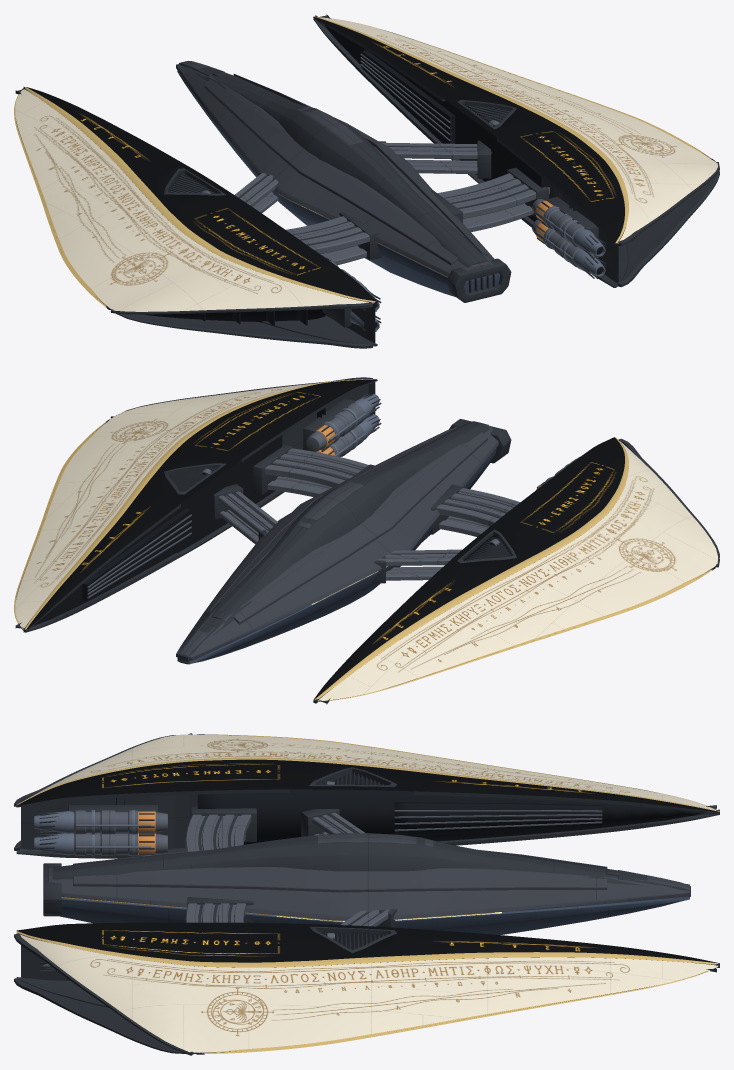
File: hermes_swept_wing.glb
3 renders of one model, top to bottom at view 1: azimuth 30°, elevation 25°; view 2: azimuth 150°, elevation 25°; view 3: azimuth 270°, elevation 25°, orthographic. The views are drawn at different scales.
Visible parts, largest first — view 1: Wing_IvoryArmor_Port_Top, Wing_IvoryArmor_Stbd_Top, Fuselage_UpperStealthCarapace, Fuselage_DorsalCanopySpine, Wing_ObsidianAft_Port_Top, Wing_ObsidianAft_Stbd_Top, Fuselage_DorsalShoulderPlate_Port, Wing_InternalStructuralCore_Stbd, Fuselage_LowerVentralHull, Wing_ObsidianFwd_Stbd_Top, Wing_ObsidianFwd_Port_Top, Wing_GoldDividerRibbon_Port_Top (+32 smaller); view 2: Wing_IvoryArmor_Port_Top, Wing_IvoryArmor_Stbd_Top, Fuselage_UpperStealthCarapace, Fuselage_DorsalCanopySpine, Wing_ObsidianAft_Port_Top, Wing_ObsidianAft_Stbd_Top, Fuselage_DorsalShoulderPlate_Port, Wing_InternalStructuralCore_Stbd, Wing_ObsidianFwd_Stbd_Top, Wing_ObsidianFwd_Port_Top, Fuselage_LowerVentralHull, Wing_GoldDividerRibbon_Port_Top (+23 smaller); view 3: Wing_IvoryArmor_Stbd_Top, Fuselage_UpperStealthCarapace, Fuselage_DorsalCanopySpine, Wing_InternalStructuralCore_Port, Wing_IvoryArmor_Port_Top, Fuselage_DorsalShoulderPlate_Stbd, Wing_ObsidianAft_Stbd_Top, Fuselage_LowerVentralHull, Wing_ObsidianAft_Port_Top, Wing_InnerWallIntakeThroat_Port, Wing_ObsidianFwd_Port_Top, Wing_ObsidianFwd_Stbd_Top (+29 smaller).
Part boxes in pixels (bbox=[...]): Wing_IvoryArmor_Port_Top: bbox=[15, 89, 373, 312]; Wing_IvoryArmor_Stbd_Top: bbox=[319, 17, 717, 243]; Fuselage_UpperStealthCarapace: bbox=[176, 61, 494, 276]; Fuselage_DorsalCanopySpine: bbox=[196, 66, 489, 267]; Wing_ObsidianAft_Port_Top: bbox=[179, 200, 377, 302]; Wing_ObsidianAft_Stbd_Top: bbox=[497, 127, 624, 244]; Fuselage_DorsalShoulderPlate_Port: bbox=[204, 79, 457, 265]; Wing_InternalStructuralCore_Stbd: bbox=[324, 24, 549, 221]; Fuselage_LowerVentralHull: bbox=[177, 71, 500, 296]; Wing_ObsidianFwd_Stbd_Top: bbox=[313, 16, 485, 101]; Wing_ObsidianFwd_Port_Top: bbox=[26, 87, 180, 175]; Wing_GoldDividerRibbon_Port_Top: bbox=[24, 87, 376, 303]; Wing_IvoryArmor_Port_Top: bbox=[318, 441, 717, 701]; Wing_IvoryArmor_Stbd_Top: bbox=[15, 383, 315, 630]; Fuselage_UpperStealthCarapace: bbox=[176, 421, 498, 660]; Fuselage_DorsalCanopySpine: bbox=[196, 421, 489, 634]; Wing_ObsidianAft_Port_Top: bbox=[497, 437, 624, 540]; Wing_ObsidianAft_Stbd_Top: bbox=[179, 379, 377, 461]; Fuselage_DorsalShoulderPlate_Port: bbox=[233, 432, 487, 624]; Wing_InternalStructuralCore_Stbd: bbox=[34, 435, 282, 625]; Wing_ObsidianFwd_Stbd_Top: bbox=[26, 496, 180, 630]; Wing_ObsidianFwd_Port_Top: bbox=[313, 567, 485, 700]; Fuselage_LowerVentralHull: bbox=[177, 448, 496, 664]; Wing_GoldDividerRibbon_Port_Top: bbox=[313, 437, 628, 703]; Wing_IvoryArmor_Stbd_Top: bbox=[16, 933, 719, 1053]; Fuselage_UpperStealthCarapace: bbox=[48, 867, 689, 920]; Fuselage_DorsalCanopySpine: bbox=[52, 833, 647, 885]; Wing_InternalStructuralCore_Port: bbox=[197, 774, 707, 844]; Wing_IvoryArmor_Port_Top: bbox=[26, 734, 715, 810]; Fuselage_DorsalShoulderPlate_Stbd: bbox=[73, 871, 607, 892]; Wing_ObsidianAft_Stbd_Top: bbox=[16, 922, 289, 962]; Fuselage_LowerVentralHull: bbox=[60, 896, 689, 934]; Wing_ObsidianAft_Port_Top: bbox=[16, 759, 289, 807]; Wing_InnerWallIntakeThroat_Port: bbox=[394, 802, 602, 836]; Wing_ObsidianFwd_Port_Top: bbox=[414, 771, 719, 813]; Wing_ObsidianFwd_Stbd_Top: bbox=[414, 929, 718, 963].
Bounding box in the file's own units: 21.54 × 3.06 × 20.08.
Materials: 14 (7 with a texture image).
